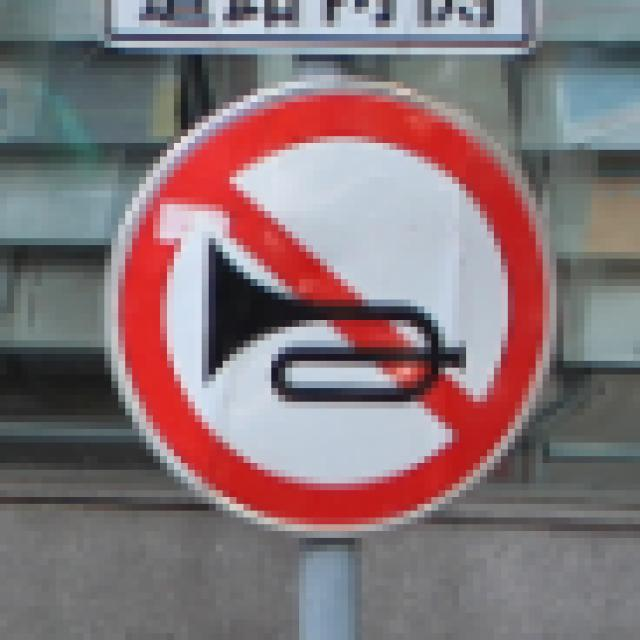No Horn: (100, 82, 571, 540)
